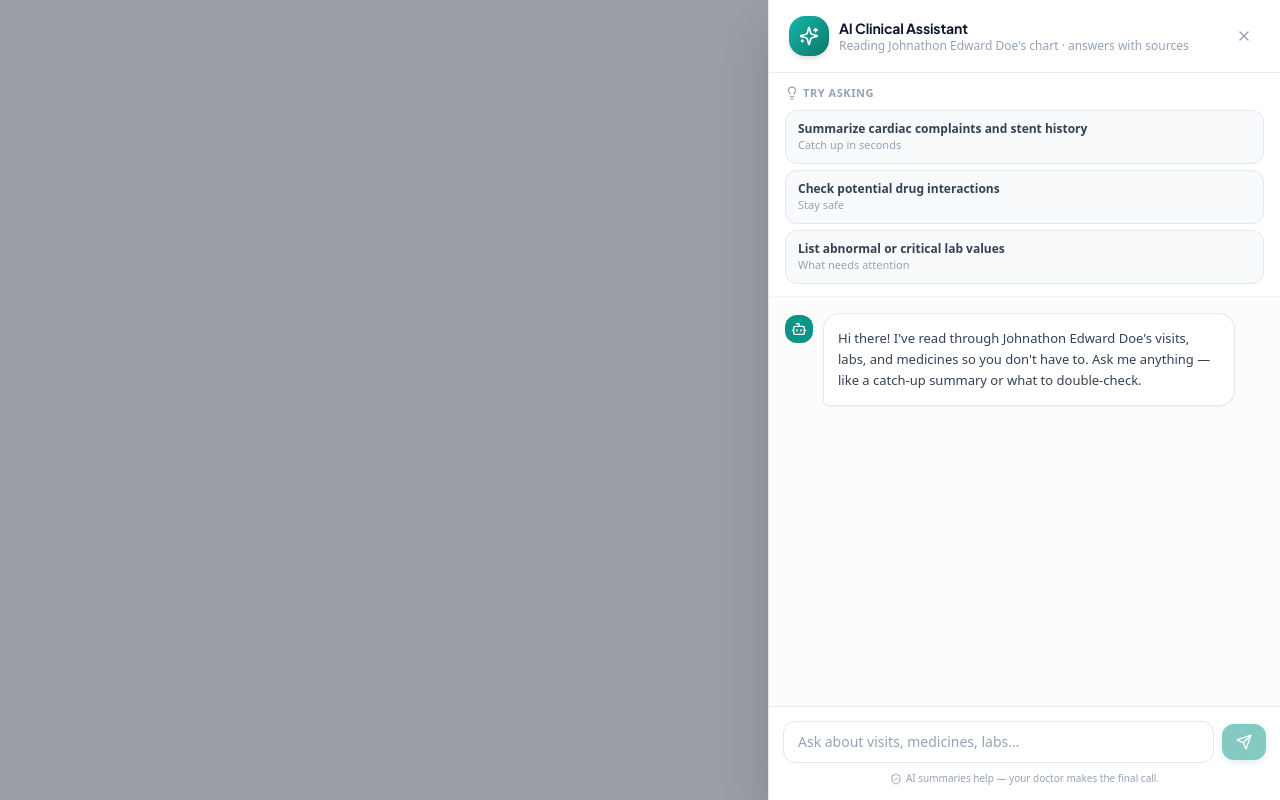
Scenario: AiClinicalAssistantDrawer Component › sends clinical question and renders synthesized response with citations
Click the text "Summarize cardiac complaints and stent history": [943, 128] box [798,120,1087,136]
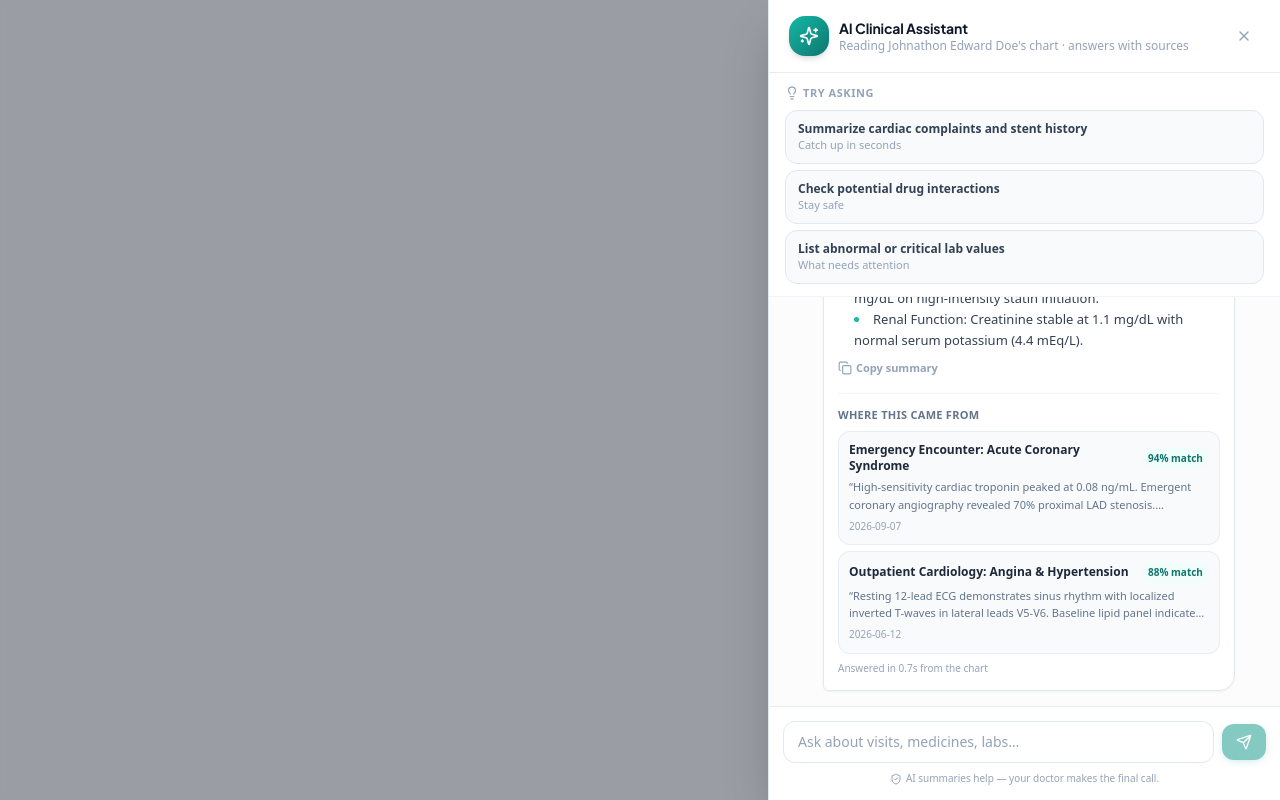
Now the text "Emergency Encounter: Acute Coronary Syndrome" is shown, box [849,441,1080,474]
